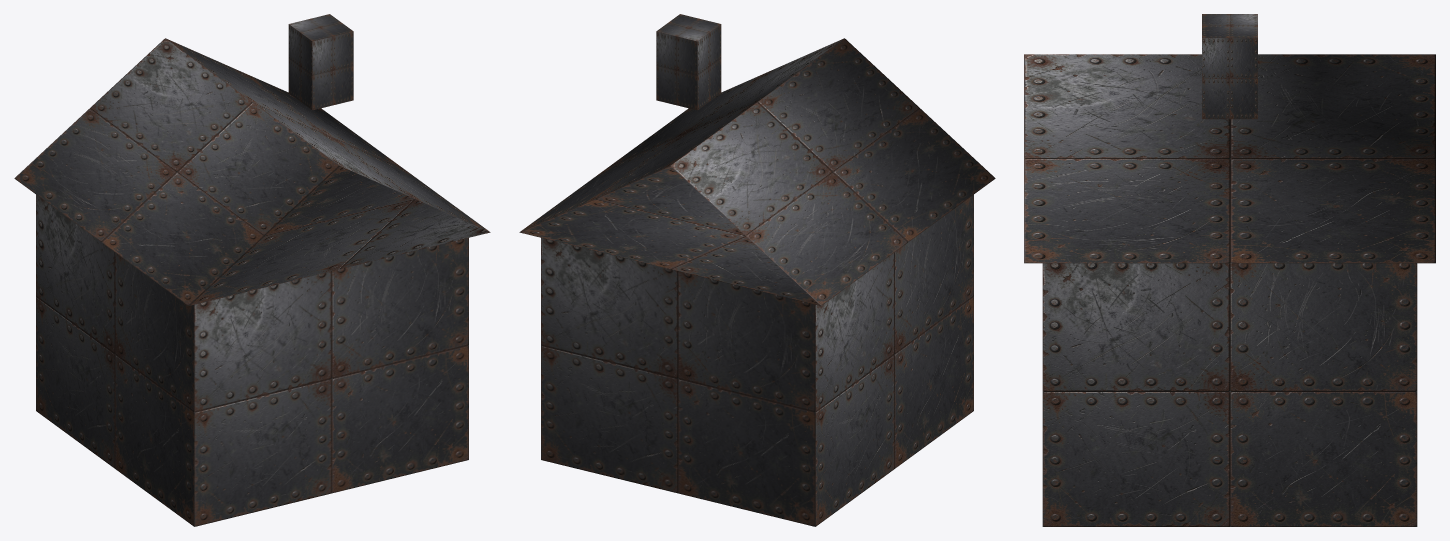
Rendered from gold_smelter.obj.
3 views of the same model, side by side, from view 1: azimuth 30°, elevation 25°; view 2: azimuth 150°, elevation 25°; view 3: azimuth 270°, elevation 25° (orthographic). The views are drawn at different scales.
Visible parts, largest first — view 1: building; view 2: building; view 3: building.
Part boxes in pixels (box(x1,y1,x2,y2)): building: box(14, 14, 490, 526); building: box(519, 14, 995, 526); building: box(1024, 14, 1435, 526).
Bounding box in the file's own units: 2.75 × 3.4 × 2.75.
